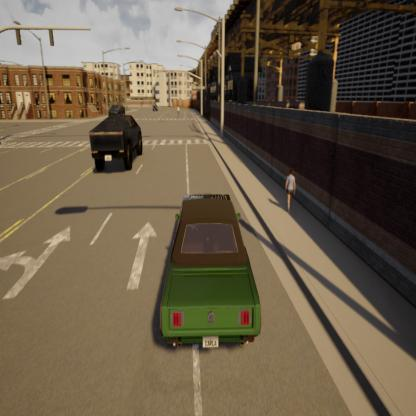Cars: (146, 180, 265, 365), (87, 113, 145, 173), (104, 101, 130, 121), (150, 102, 160, 112)
Pedestrian: (284, 161, 297, 219)
